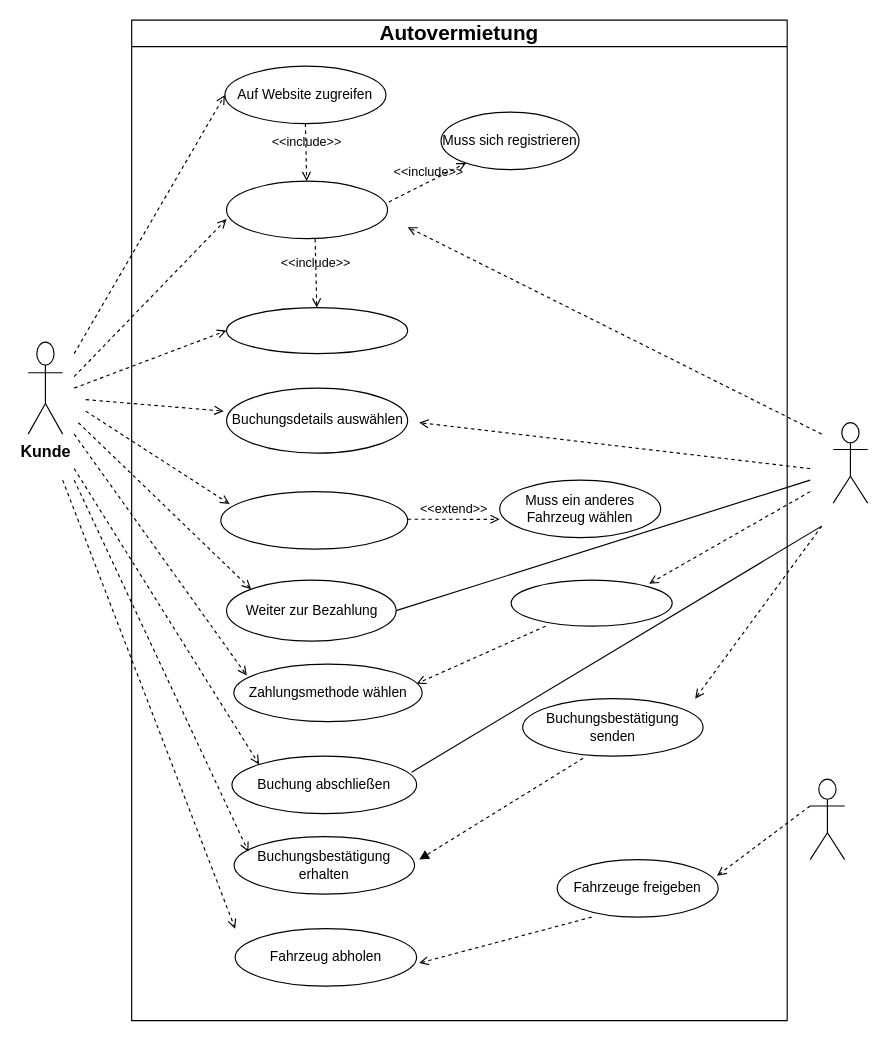
This 895x1041 diagram has some shape labels left out. Here are the shapes that lost their labels. From the top down, the box of each, then its label:
(225, 180, 388, 239): Benutzerregistrierung
(225, 306, 408, 354): sich Einlogen
(832, 421, 868, 503): System
(220, 490, 408, 549): Fahrzeugverfügbarkeit prüfen
(510, 579, 672, 626): Zahlungsmethode bereitstellen
(809, 778, 845, 860): Mitarbeiter
